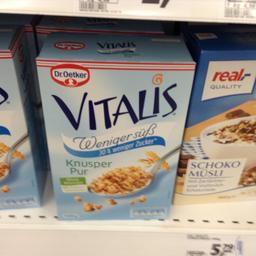cereal: (34, 28, 193, 220), (177, 32, 255, 209)
